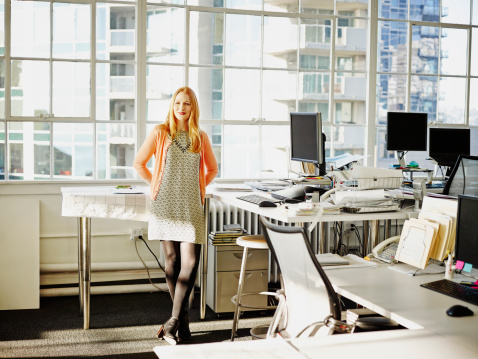em pe: (136, 64, 209, 348)
